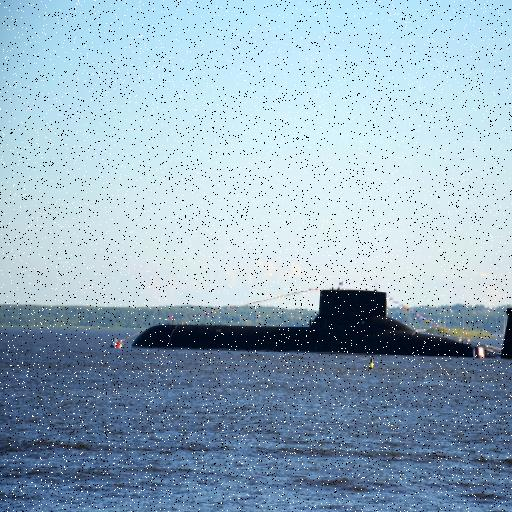submarine: (130, 275, 512, 356)
